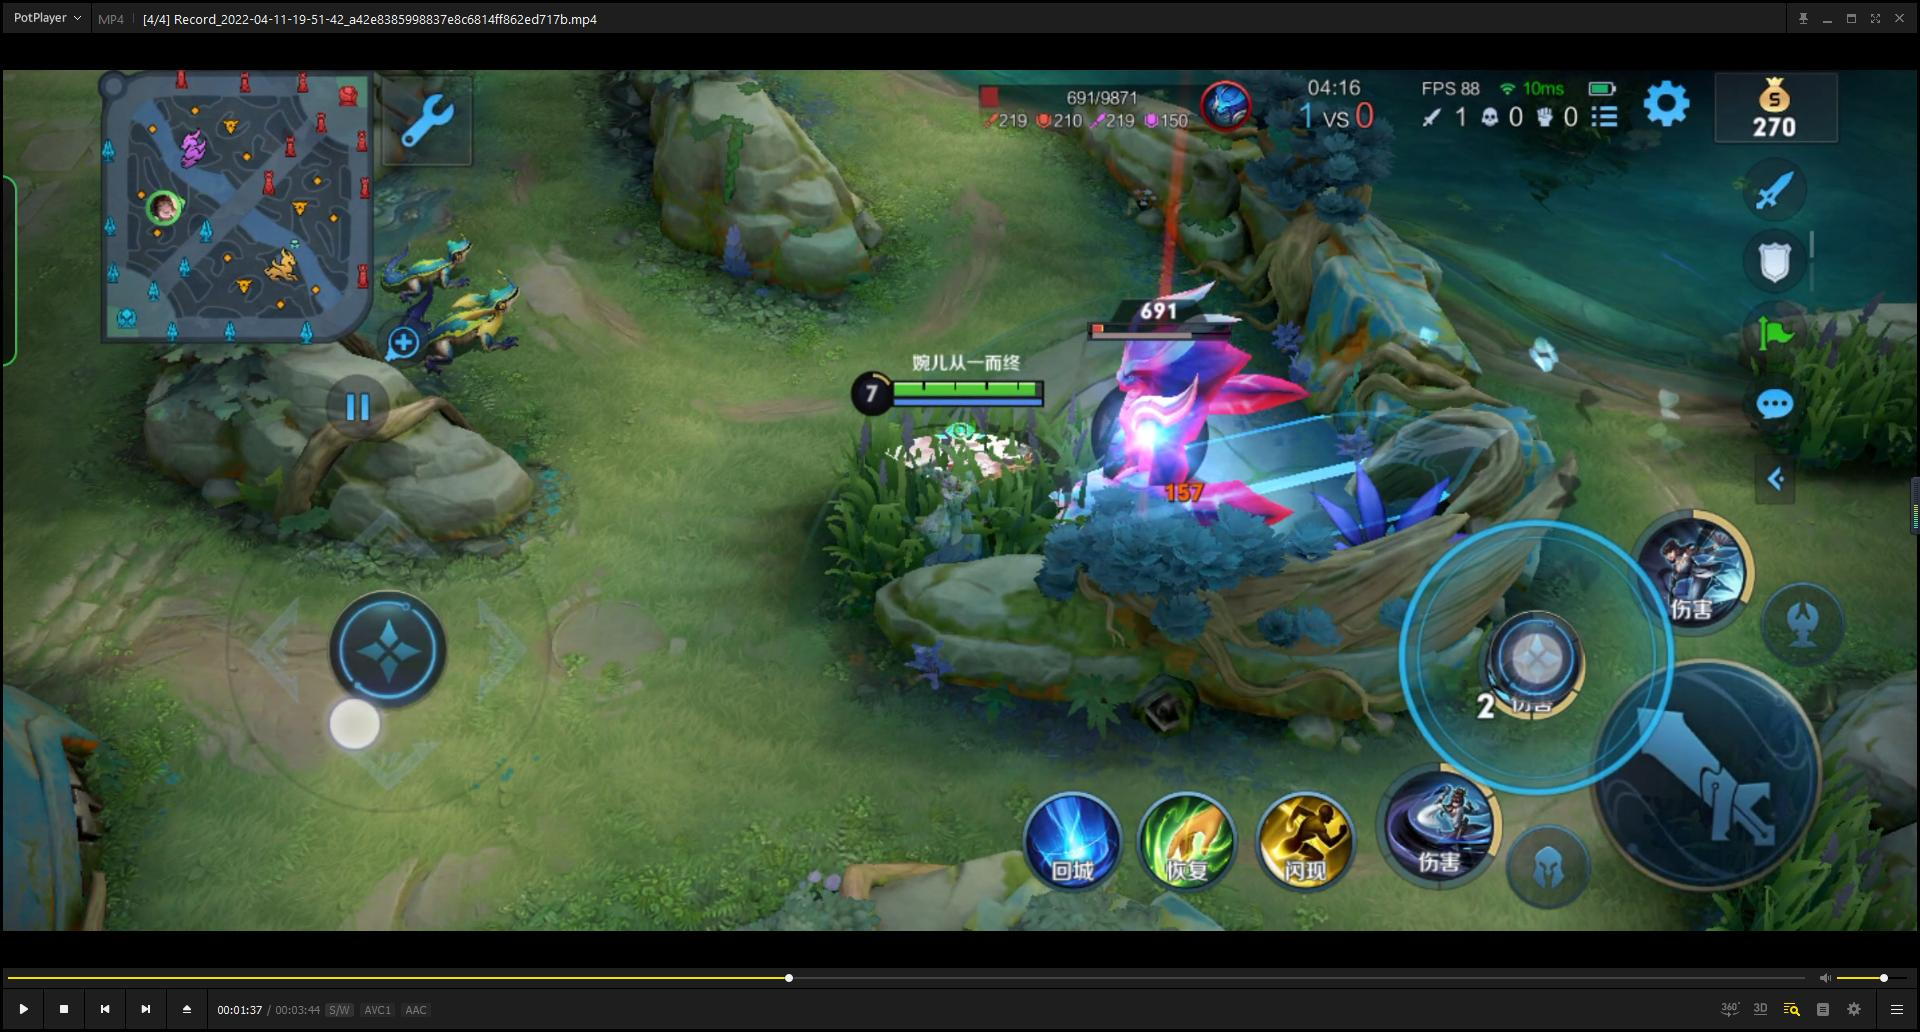Buff: (1022, 221, 1302, 540)
Hero: (869, 412, 1083, 587)
Lizard: (388, 275, 532, 380), (358, 222, 487, 314)
